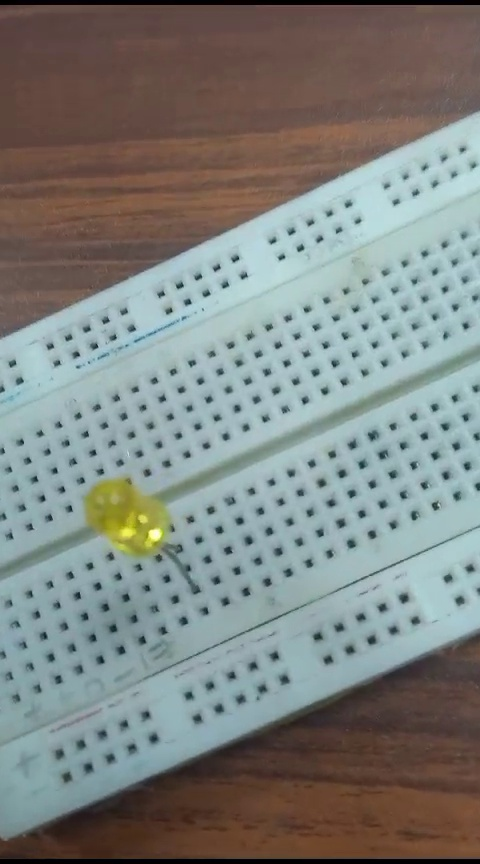LED: (70, 463, 199, 591)
